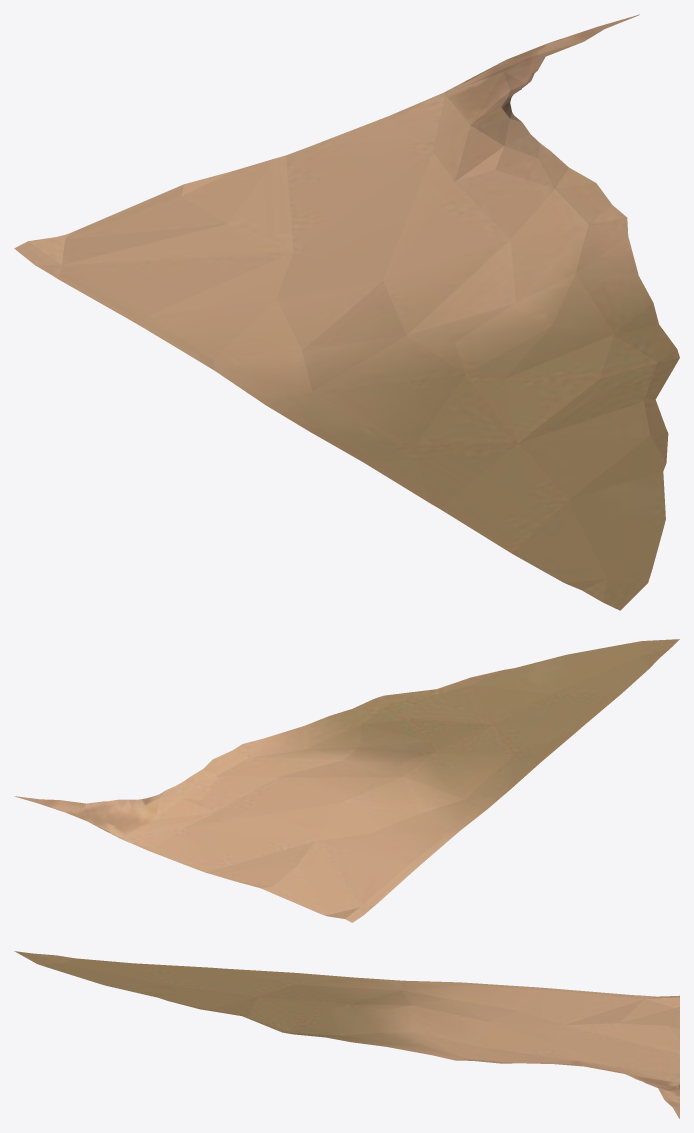
3 renders of one model, top to bottom at view 1: azimuth 30°, elevation 25°; view 2: azimuth 150°, elevation 25°; view 3: azimuth 270°, elevation 25°, orthographic. The views are drawn at different scales.
Size of the model in its own units: 0.249 by 0.0315 by 0.4176.
Materials: 1 (1 with a texture image).
